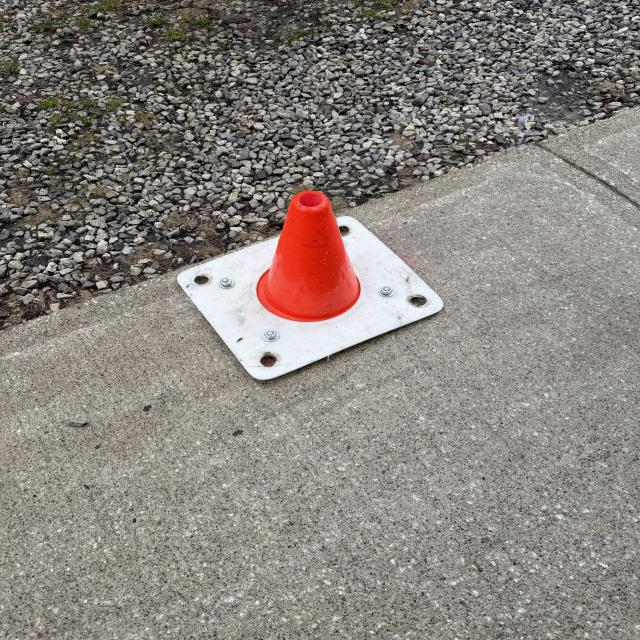Traffic Cone: (175, 190, 446, 383)
